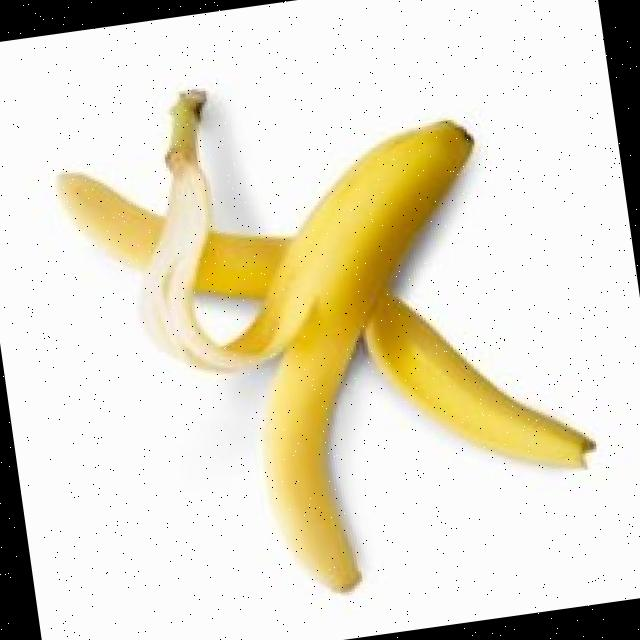banana-peel: (44, 38, 612, 624)
